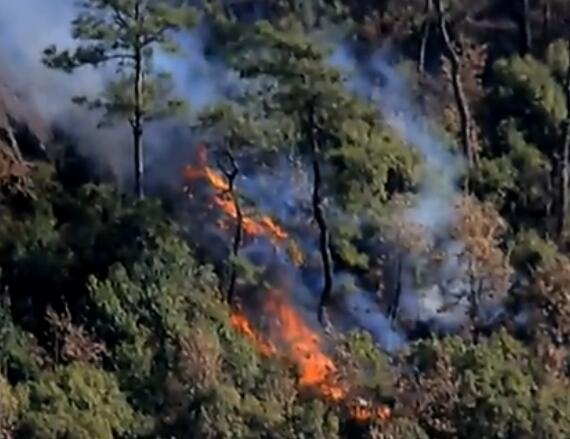fire: (182, 157, 393, 421)
yanwu: (1, 1, 490, 342)
